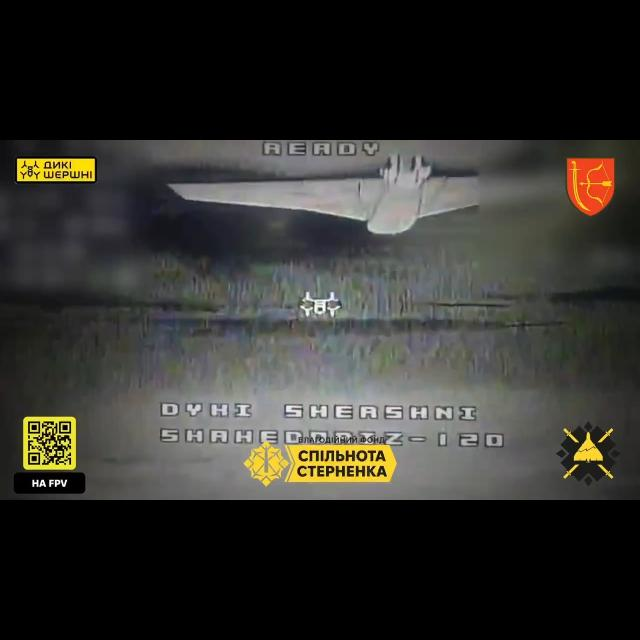Gerbera: (167, 156, 481, 234)
